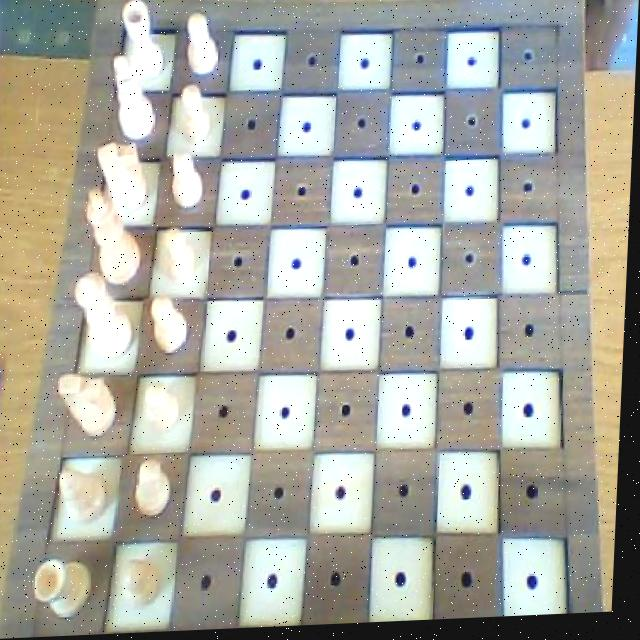black-rook: (105, 50, 163, 149), (58, 459, 119, 536)
white-bishop: (81, 182, 149, 289)
white-king: (94, 136, 158, 222), (57, 367, 127, 445)
white-knight: (149, 293, 197, 359), (181, 8, 223, 82), (144, 377, 190, 443), (134, 455, 180, 521), (176, 80, 218, 152), (123, 552, 171, 613), (168, 149, 210, 214), (162, 225, 202, 287)
white-pawn: (73, 270, 142, 368)
white-queen: (35, 548, 103, 625), (115, 0, 171, 88)
